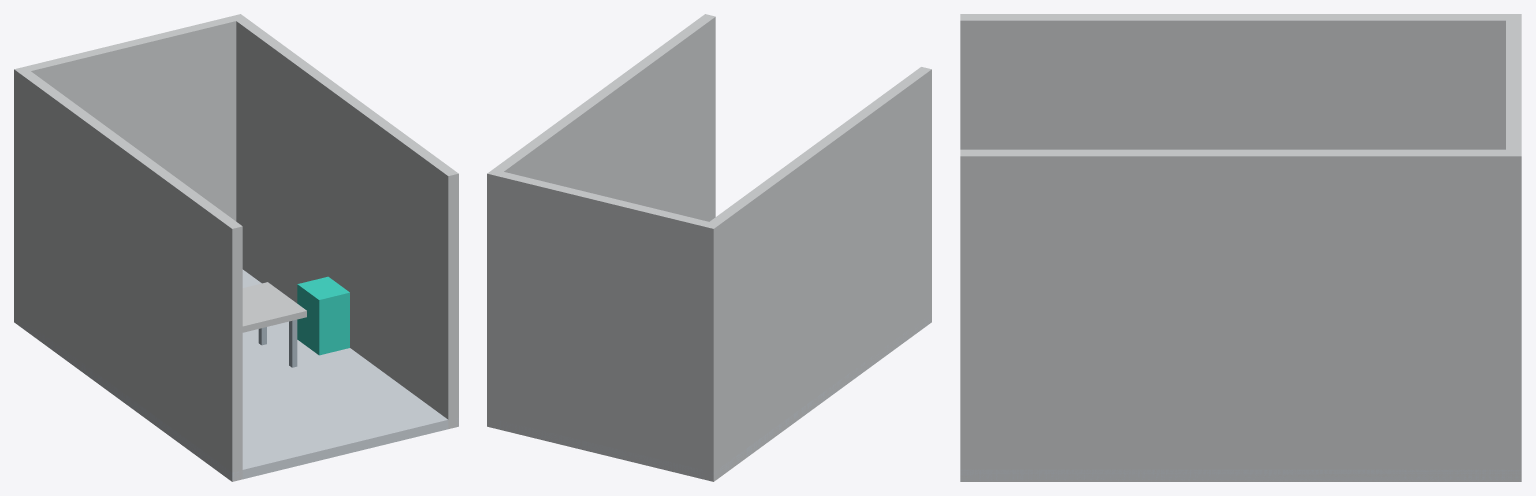
The picture shows the model from 3 angles, left to right: view 1: azimuth 30°, elevation 25°; view 2: azimuth 150°, elevation 25°; view 3: azimuth 270°, elevation 25°; orthographic projection. The views are drawn at different scales.
Parts seen in each view (by area): view 1: Exhibition Booth Concept; view 2: Exhibition Booth Concept; view 3: Exhibition Booth Concept.
Boxes of the visible parts, x1,y1,x2,y2 form: Exhibition Booth Concept: (14,14,458,481); Exhibition Booth Concept: (487,14,931,481); Exhibition Booth Concept: (960,14,1521,481).
Size of the model in its own units: 3 by 3.2 by 5.
